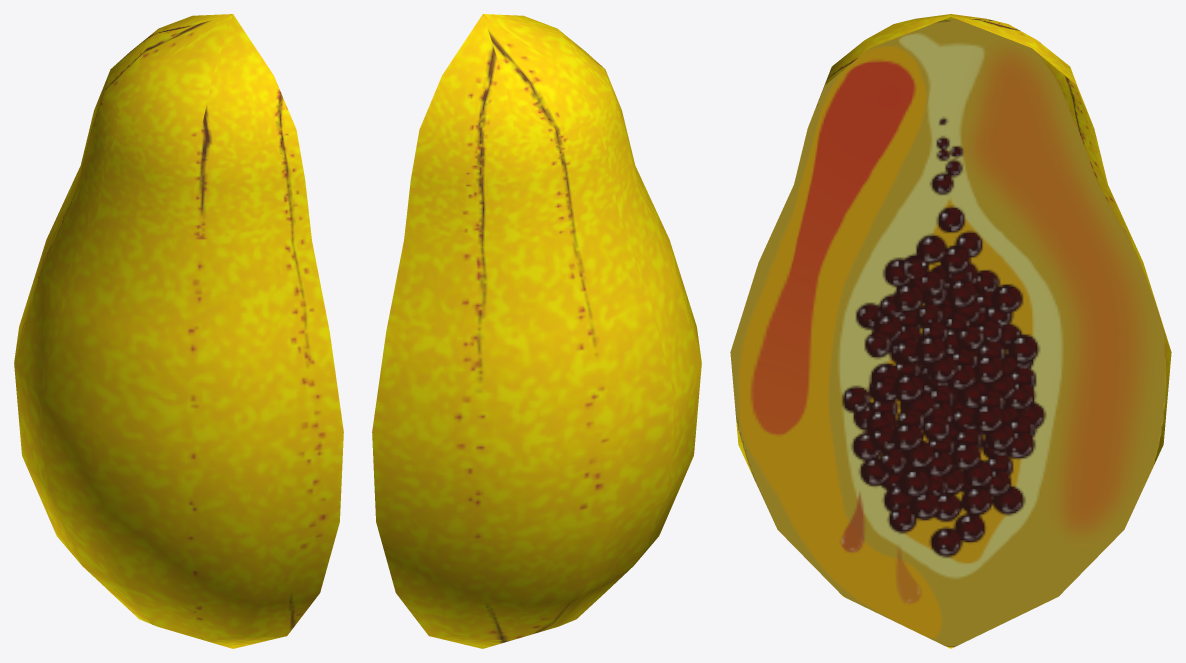
File: papayaS.FBX
3 views of the same model, side by side, from view 1: azimuth 30°, elevation 25°; view 2: azimuth 150°, elevation 25°; view 3: azimuth 270°, elevation 25° (orthographic).
Parts seen in each view (by area): view 1: Papaya001; view 2: Papaya001; view 3: Papaya001.
Boxes of the visible parts, x1,y1,x2,y2 form: Papaya001: (14,14,343,648); Papaya001: (372,14,701,648); Papaya001: (730,14,1171,648).
Bounding box in the file's own units: 4.87 × 15.39 × 9.74.
